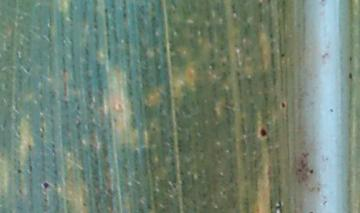tarspot: (259, 127, 267, 138), (42, 182, 50, 190), (347, 71, 354, 80), (16, 167, 23, 175), (280, 102, 287, 108), (280, 52, 286, 58), (309, 168, 314, 175)
